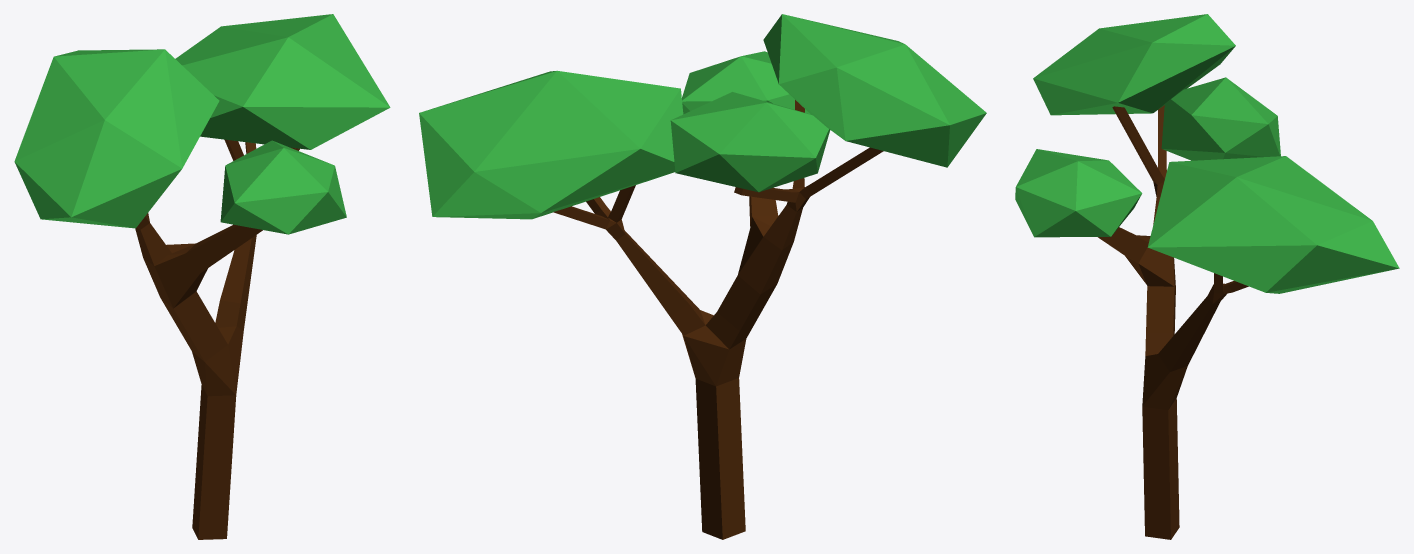
File: tree 2.glb
The picture shows the model from 3 angles, left to right: view 1: azimuth 30°, elevation 25°; view 2: azimuth 150°, elevation 25°; view 3: azimuth 270°, elevation 25°; orthographic projection. The views are drawn at different scales.
Visible parts, largest first — view 1: Icosphere, Icosphere.001, Plane, Icosphere.002; view 2: Icosphere.001, Plane, Icosphere, Icosphere.003, Icosphere.002; view 3: Icosphere.001, Plane, Icosphere, Icosphere.002, Icosphere.003.
Part boxes in pixels (x1,y1,x2,y2): Icosphere: [14, 49, 219, 228]; Icosphere.001: [175, 14, 390, 149]; Plane: [135, 139, 299, 539]; Icosphere.002: [220, 140, 346, 234]; Icosphere.001: [419, 70, 683, 219]; Plane: [553, 100, 883, 539]; Icosphere: [763, 14, 986, 167]; Icosphere.003: [670, 92, 830, 192]; Icosphere.002: [682, 51, 810, 114]; Icosphere.001: [1147, 156, 1399, 293]; Plane: [1098, 105, 1248, 539]; Icosphere: [1033, 14, 1235, 115]; Icosphere.002: [1015, 149, 1142, 237]; Icosphere.003: [1161, 77, 1280, 160].
Size of the model in its own units: 8.21 by 9.42 by 7.03.
